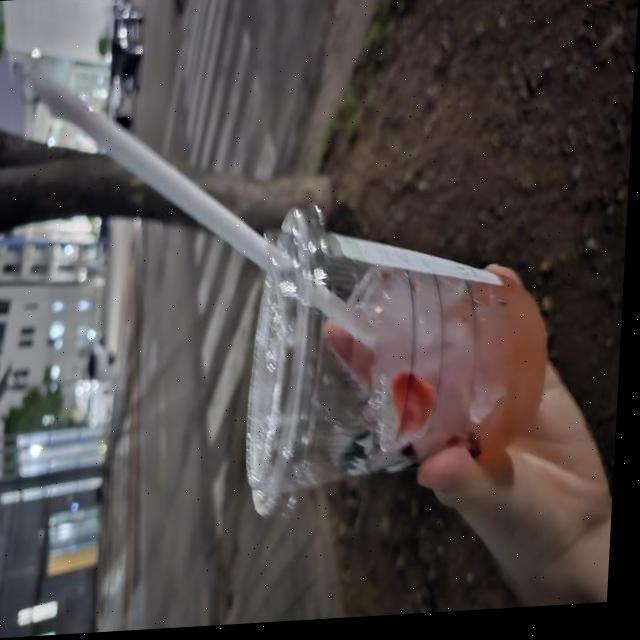cup: (231, 184, 565, 523)
